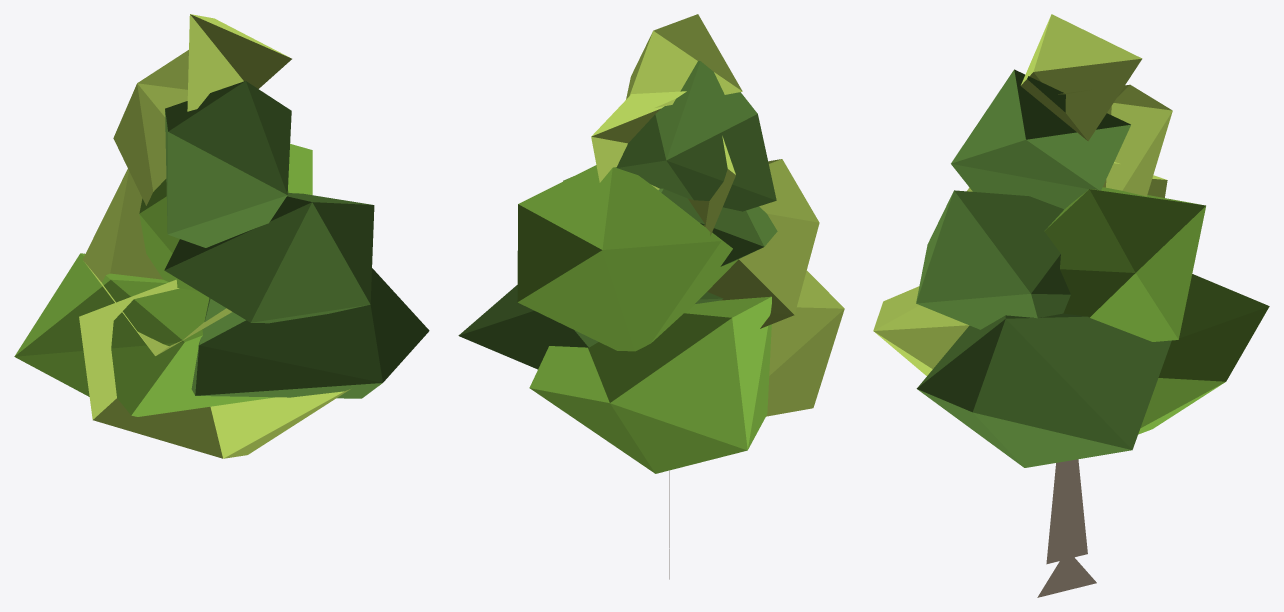
The model's file is tree_beech_1_lod2.glb.
3 renders of one model, left to right at view 1: azimuth 30°, elevation 25°; view 2: azimuth 150°, elevation 25°; view 3: azimuth 270°, elevation 25°, orthographic. The views are drawn at different scales.
Parts seen in each view (by area): view 1: tree_beech_1_lod2; view 2: tree_beech_1_lod2; view 3: tree_beech_1_lod2.
Part boxes in pixels (x1,y1,x2,y2): tree_beech_1_lod2: (14, 14, 429, 458); tree_beech_1_lod2: (458, 14, 844, 579); tree_beech_1_lod2: (873, 14, 1269, 597).
Bounding box in the file's own units: 6.09 × 10.29 × 6.53.
